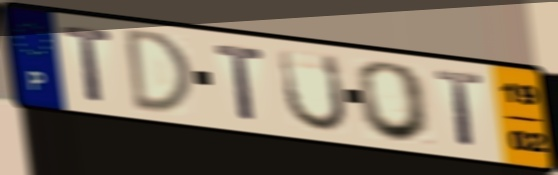D: (124, 25, 197, 115)
O: (354, 59, 436, 145)
T: (432, 66, 487, 152), (212, 41, 268, 124), (60, 23, 116, 105)
U: (275, 45, 351, 134)
